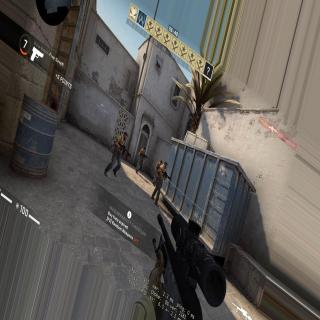T-Body: (104, 129, 128, 179), (150, 158, 168, 206), (134, 146, 147, 174), (153, 157, 162, 185)
T-Head: (124, 131, 128, 141), (164, 162, 168, 168), (143, 147, 146, 151), (160, 160, 162, 163)
